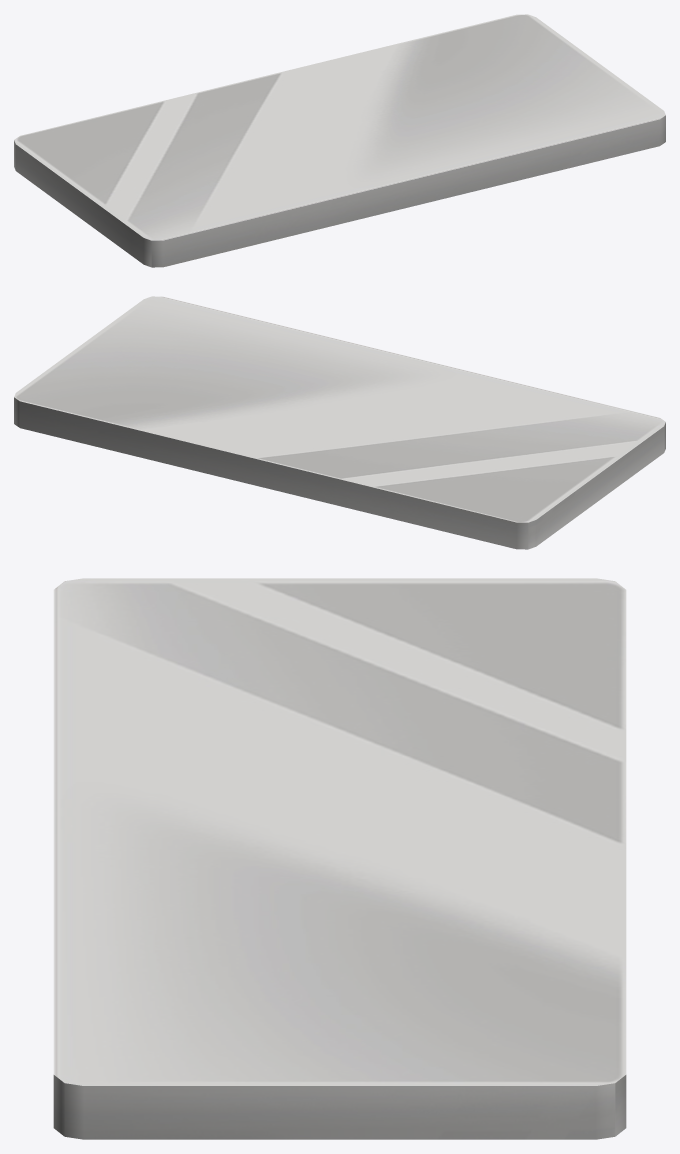
Rendered from Salmon_Worktable.FBX.
3 views of the same model, one above another, from view 1: azimuth 30°, elevation 25°; view 2: azimuth 150°, elevation 25°; view 3: azimuth 270°, elevation 25° (orthographic). The views are drawn at different scales.
Visible parts, largest first — view 1: Object073; view 2: Object073; view 3: Object073.
Part boxes in pixels (x1,y1,x2,y2): Object073: (14,14,665,267); Object073: (14,296,665,549); Object073: (53,578,626,1139).
Size of the model in its own units: 67.64 by 32.22 by 3.33.
